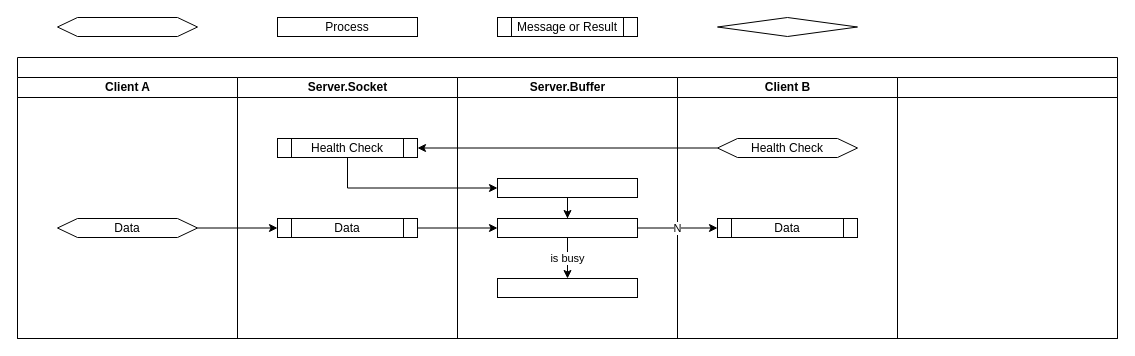
The diagram is 1135 pixels wide and 356 high, and some of its shapes have lost their labels. The centre of each missing label's shape, as x and y in pixels:
"add" belongs at [567,288].
"Client ..." belongs at [1007,207].
"Condition" belongs at [787,26].
"Event" belongs at [127,26].
"resetIdleCount" belongs at [567,188].
"send" belongs at [567,228].
